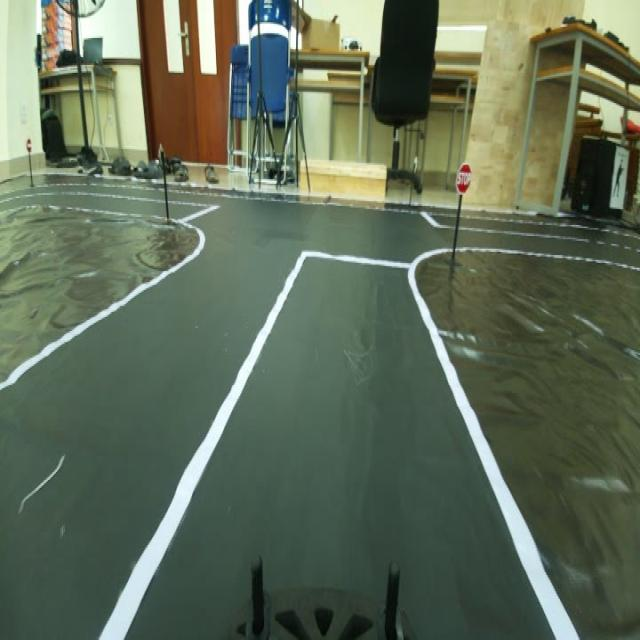stop: (451, 157, 477, 196)
